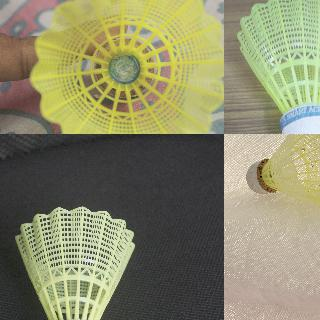shuttlecock: (30, 0, 223, 133), (15, 207, 136, 319), (237, 0, 319, 133), (245, 134, 319, 212)
